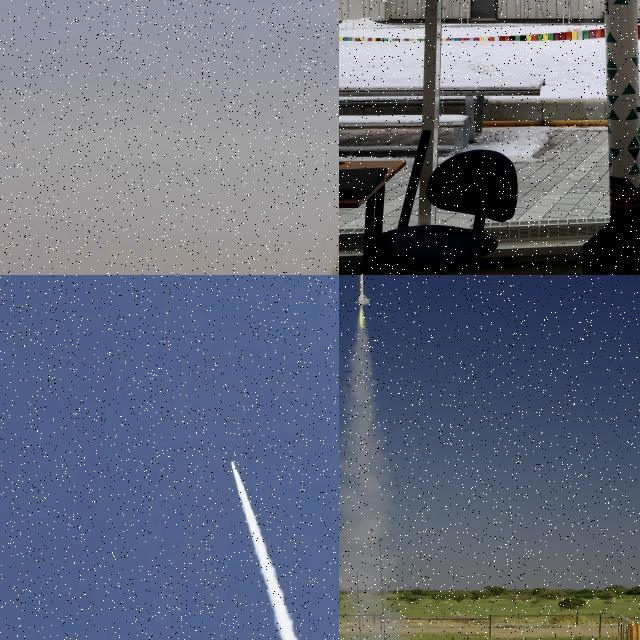Rocket: (582, 0, 640, 275), (352, 275, 370, 306), (229, 455, 233, 463)
